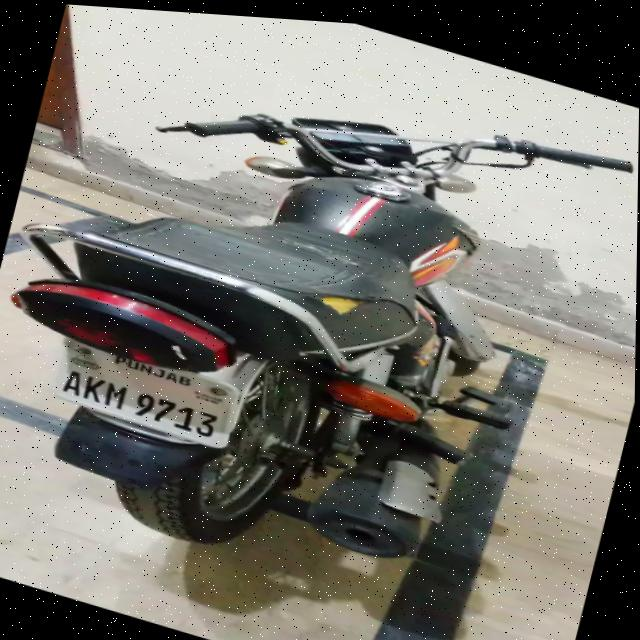Bike: (0, 0, 640, 625)
